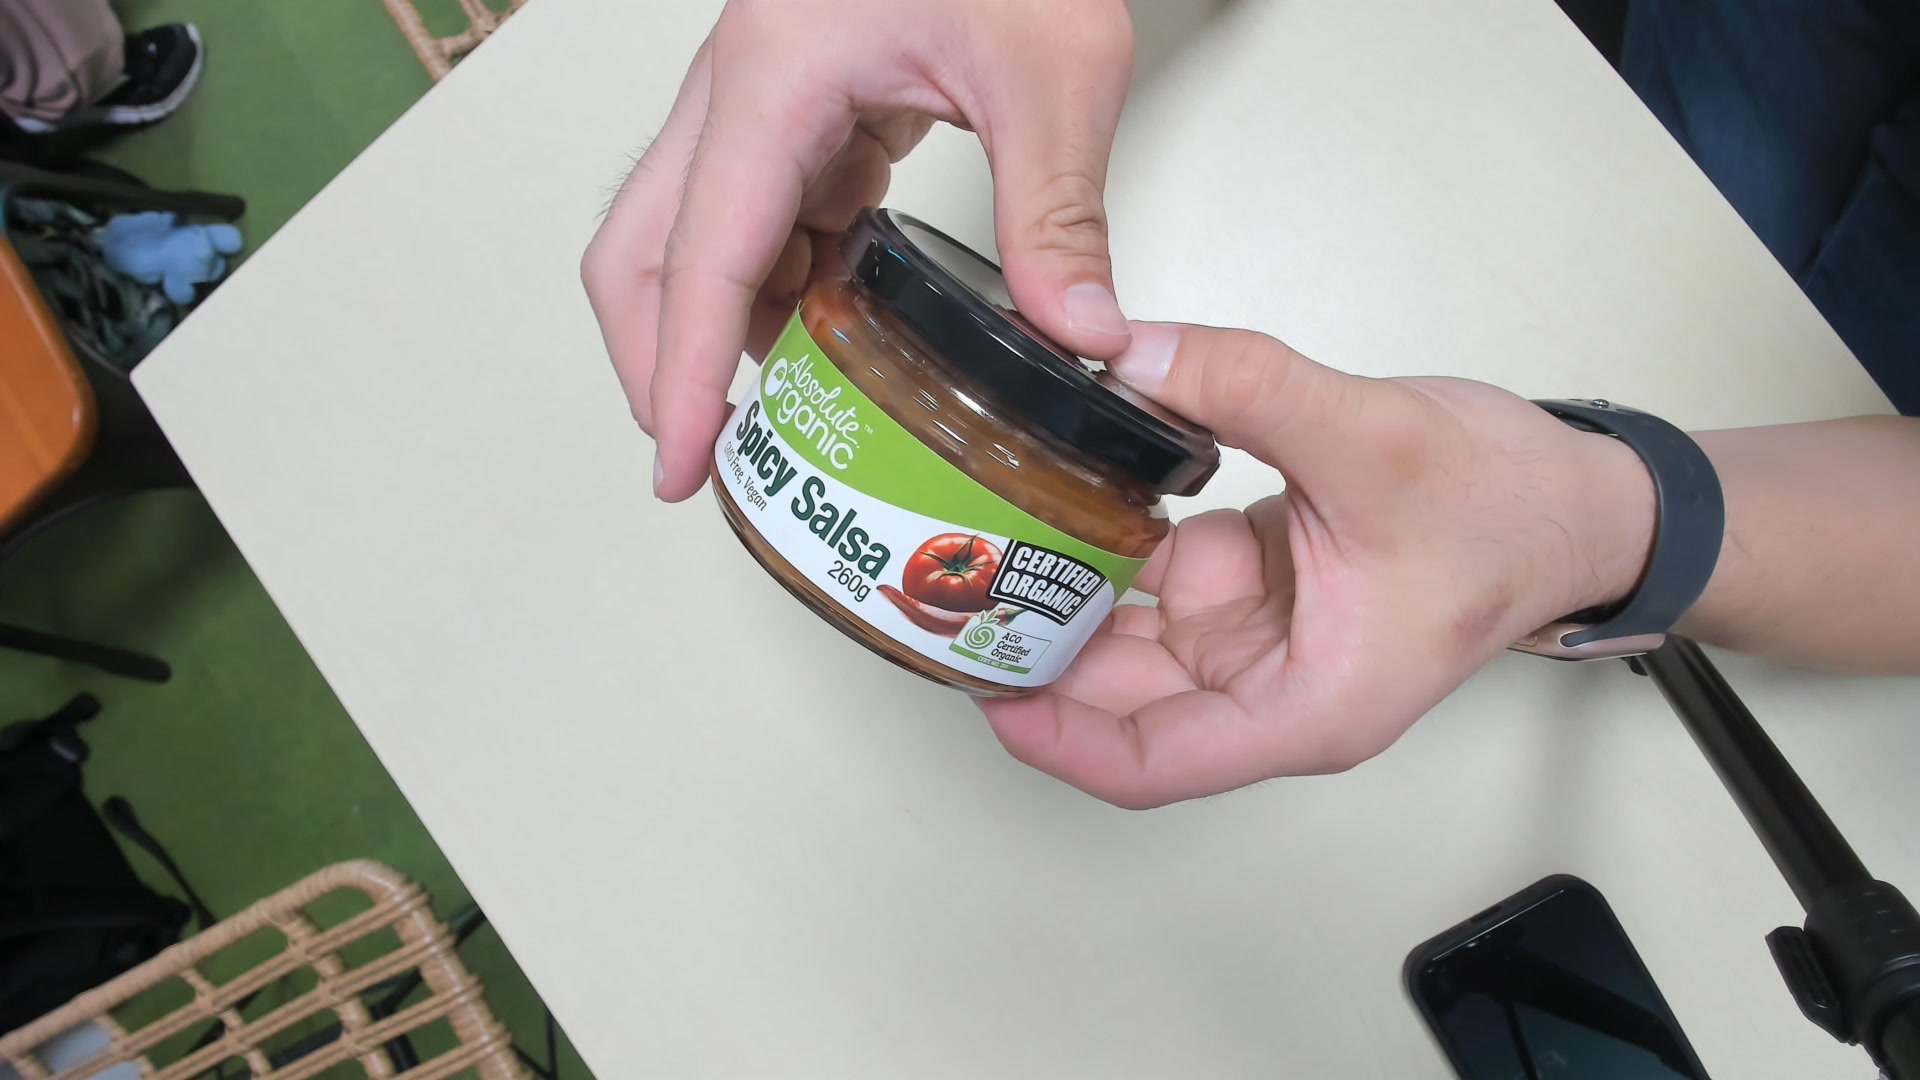OtherSauceDressing_200-299g_NonHalal_NonHealthy: (700, 215, 1215, 703)
